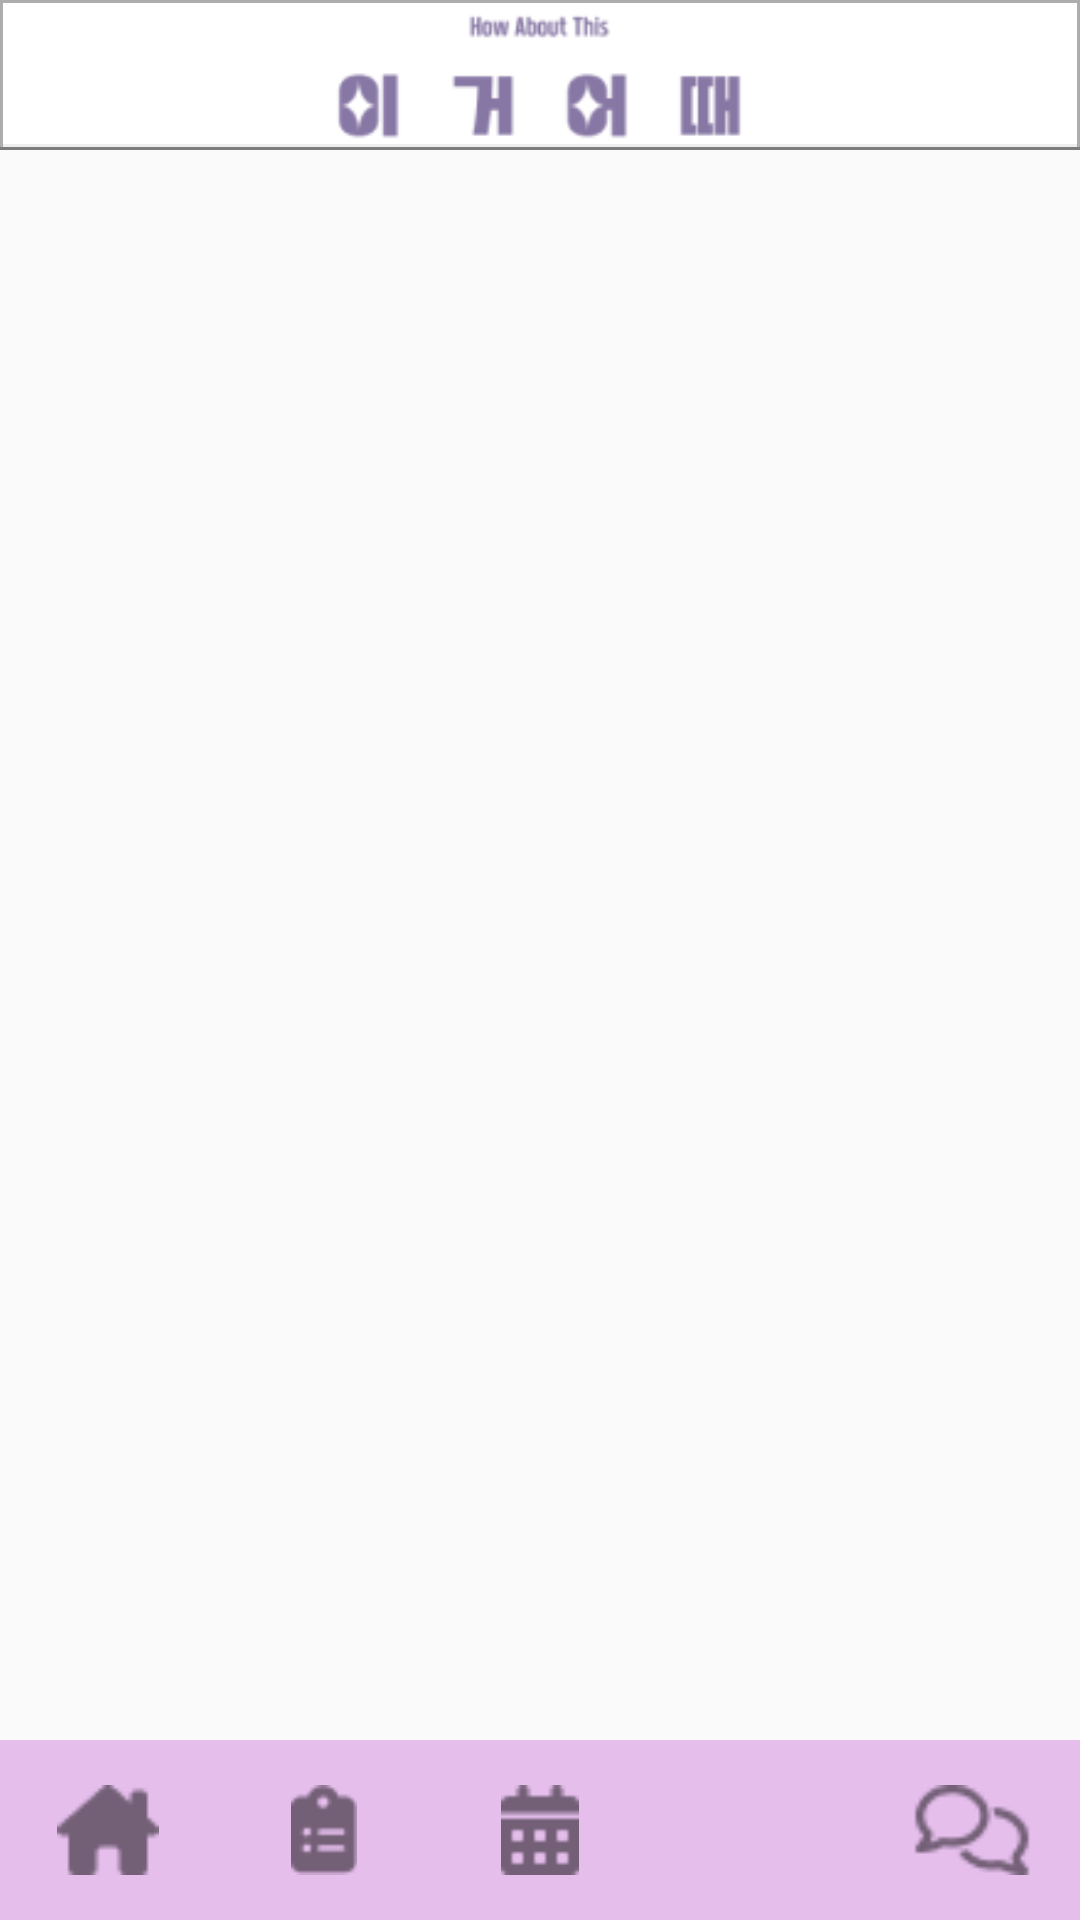

Point at icon controls on the screen. Image size 1080px x 1920px, points as [x,y].
home: [108,1830]
post: [324,1830]
schedule: [540,1830]
talk: [972,1830]
